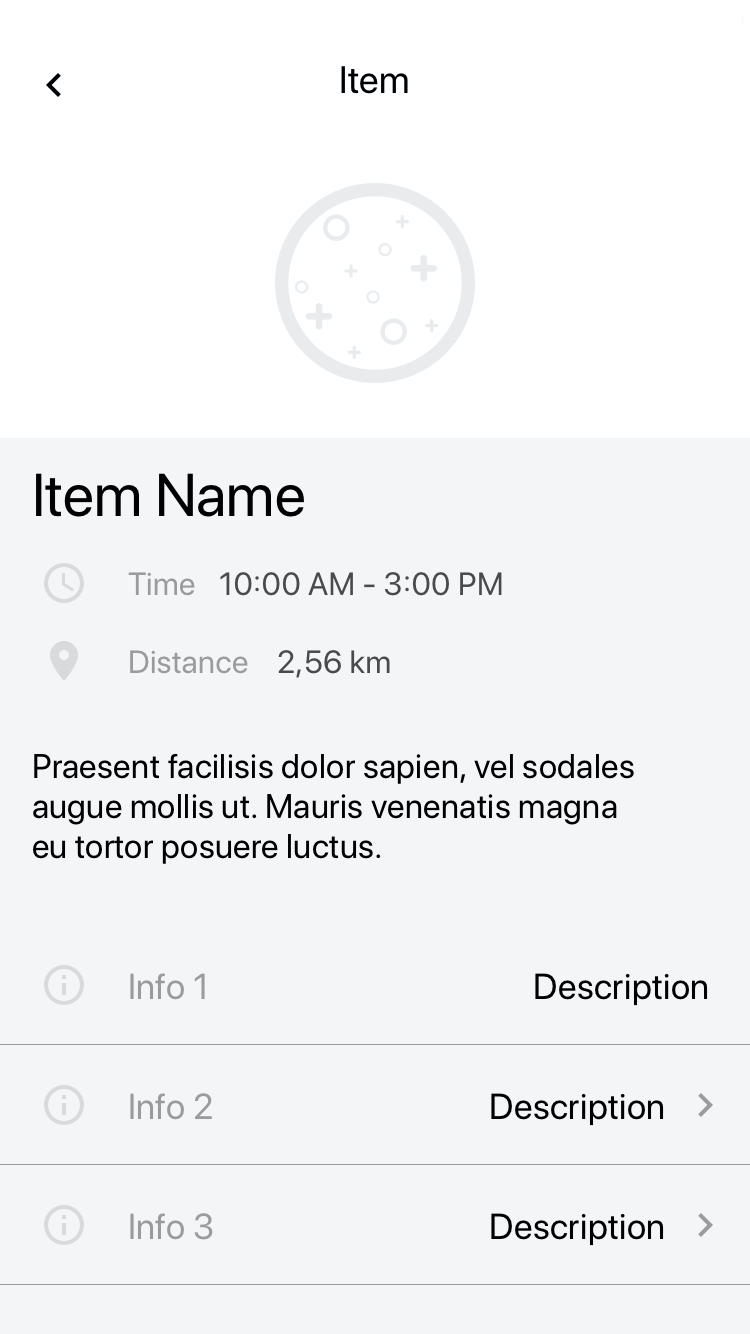Icon: (42, 561, 86, 605), (43, 964, 86, 1007), (43, 1204, 86, 1246), (42, 1084, 85, 1125), (49, 640, 80, 683), (694, 1210, 712, 1238), (696, 1091, 713, 1119), (46, 74, 65, 98)
Image: (274, 182, 476, 384)
Text: (32, 752, 635, 864), (34, 473, 308, 518), (219, 571, 504, 597), (488, 1211, 665, 1248), (489, 1091, 666, 1127), (534, 972, 710, 1005), (278, 648, 392, 680), (128, 648, 249, 675), (129, 1090, 215, 1123), (127, 969, 210, 1002), (128, 1211, 215, 1242), (340, 66, 410, 96), (128, 570, 197, 600)
